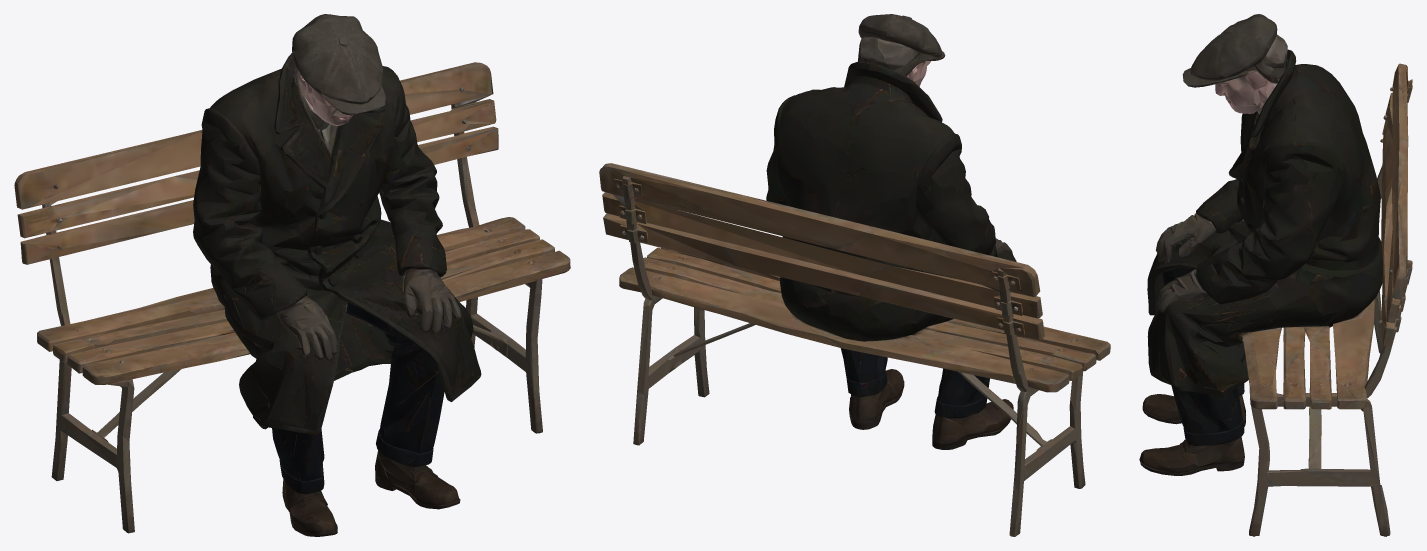
The model's file is passenger_a.glb.
The picture shows the model from 3 angles, left to right: view 1: azimuth 30°, elevation 25°; view 2: azimuth 150°, elevation 25°; view 3: azimuth 270°, elevation 25°; orthographic projection. The views are drawn at different scales.
Visible parts, largest first — view 1: Mesh_0; view 2: Mesh_0; view 3: Mesh_0.
Part boxes in pixels (x1,y1,x2,y2): Mesh_0: (14,14,570,536); Mesh_0: (599,14,1110,536); Mesh_0: (1139,14,1412,536).
Size of the model in its own units: 1.9 by 1.77 by 1.03.
1 material, 1 textured.
